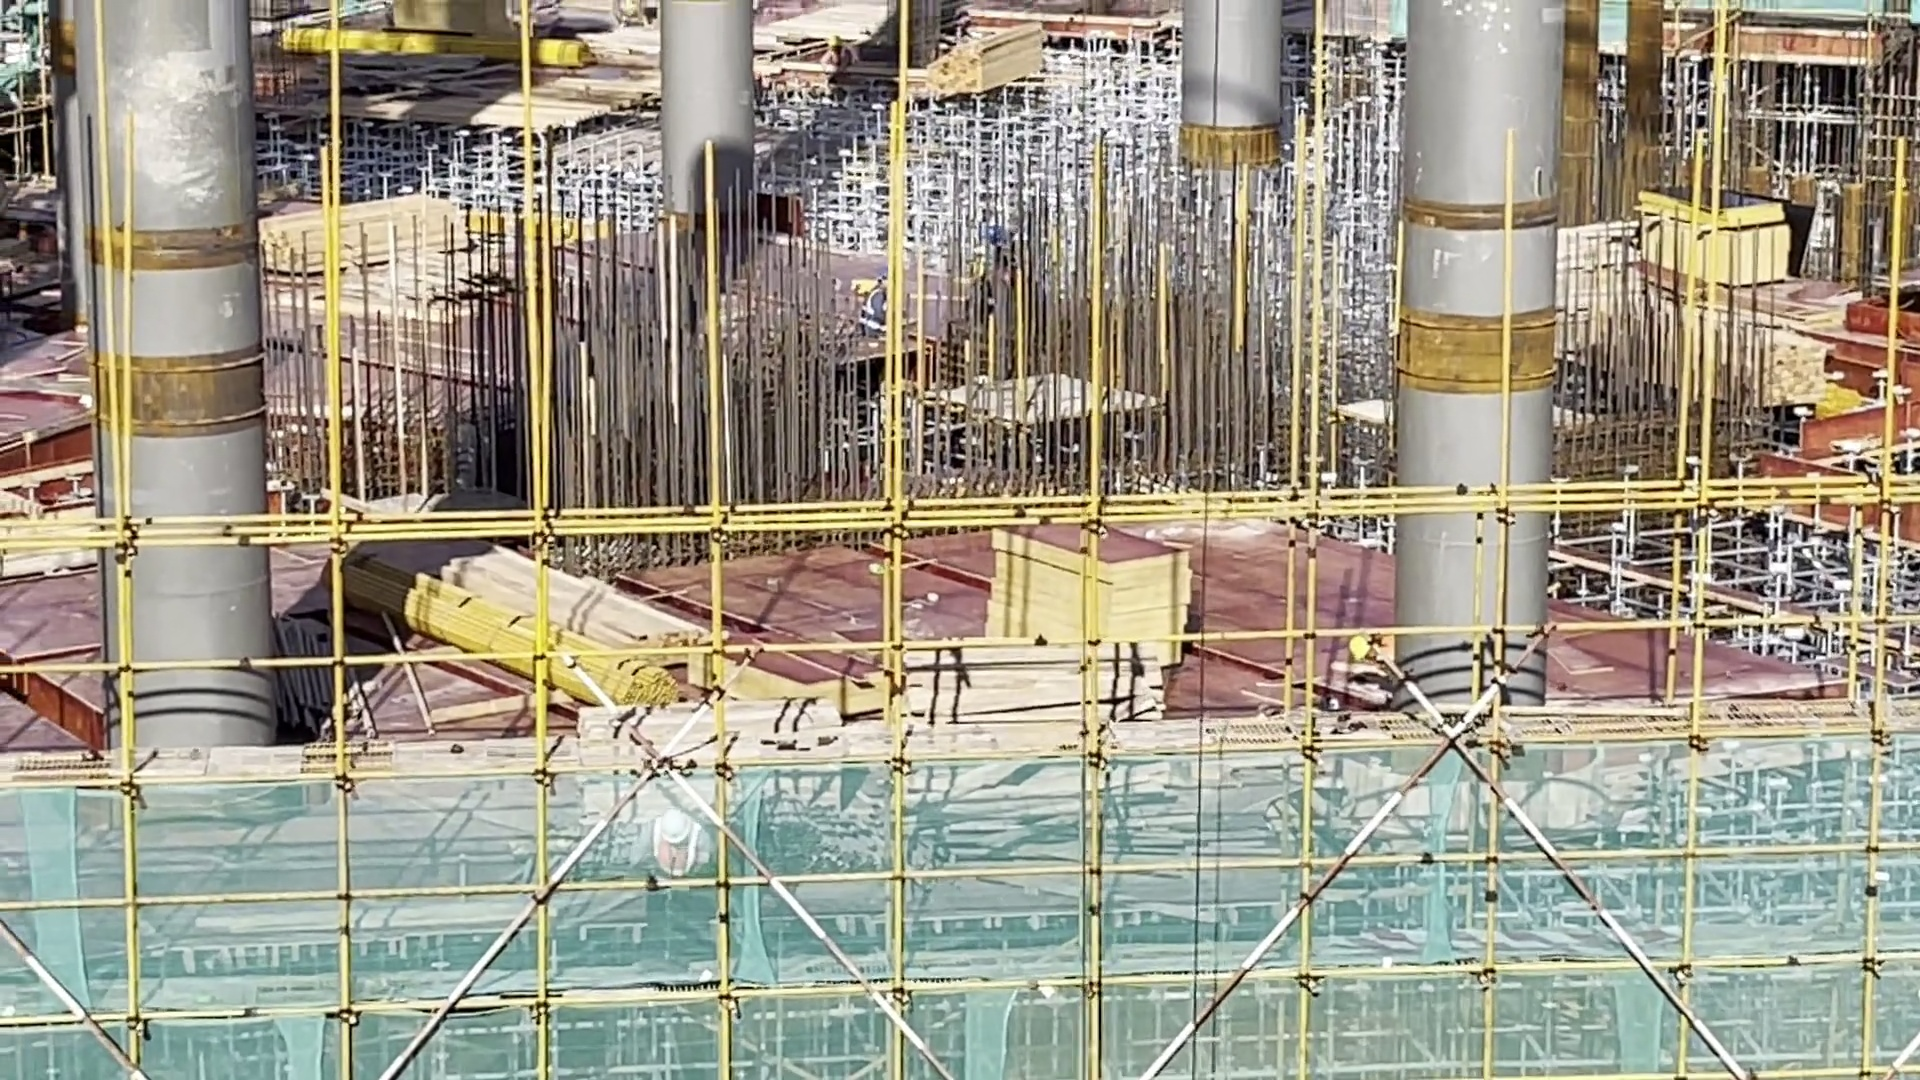board: (975, 520, 1182, 658)
wood: (407, 547, 720, 700), (897, 636, 1178, 720), (262, 204, 455, 265), (924, 30, 1047, 88), (1750, 334, 1828, 415)
